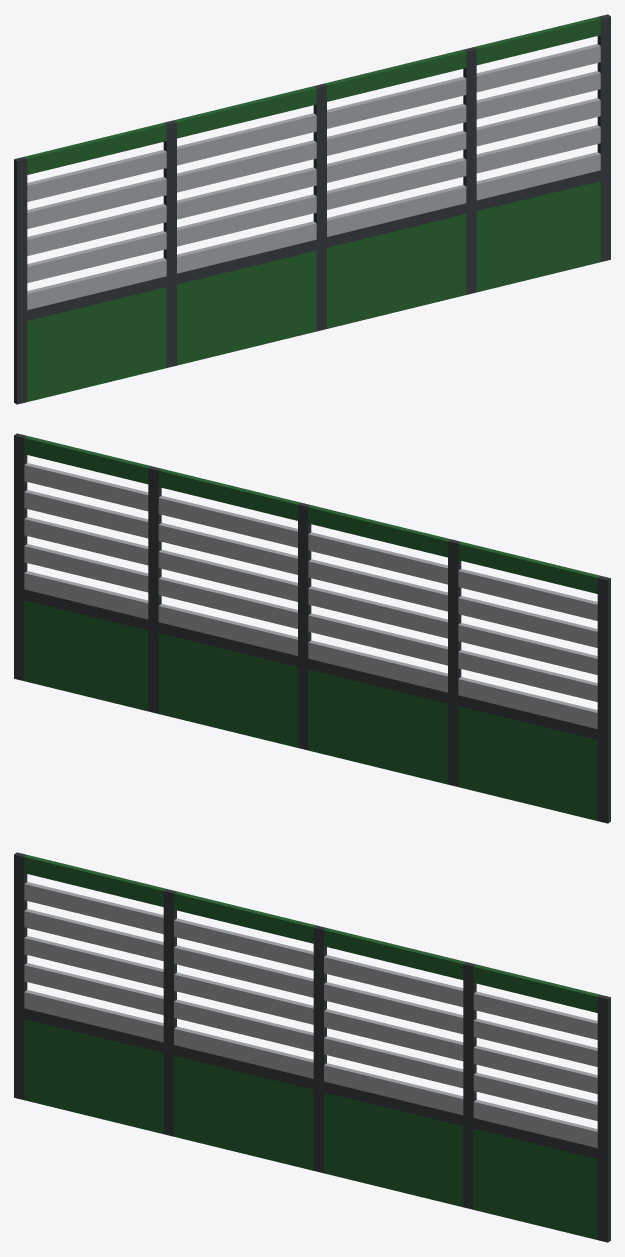
Rendered from livestock_trailer_side.glb.
3 renders of one model, top to bottom at view 1: azimuth 30°, elevation 25°; view 2: azimuth 150°, elevation 25°; view 3: azimuth 330°, elevation 25°, orthographic.
Parts seen in each view (by area): view 1: body:compound; view 2: body:compound; view 3: body:compound.
Part boxes in pixels (x1,y1,x2,y2): body:compound: (14,14,610,404); body:compound: (14,433,610,823); body:compound: (14,852,610,1242).
Bounding box in the file's own units: 3.59 × 1.41 × 0.0312.
